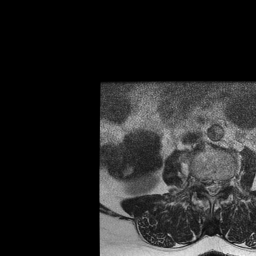CCS_stenosis: (209, 171, 215, 201)
LFS_normal: (221, 170, 228, 193)
LLS_normal: (215, 171, 221, 197)
RFS_normal: (196, 170, 203, 195)
RLS_normal: (203, 171, 209, 197)
